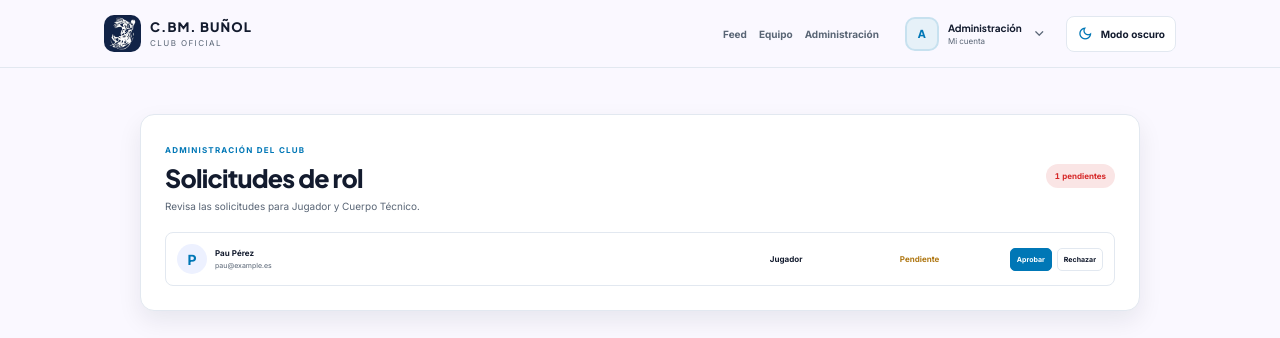
AdminRequestsPage › presenta errores al resolver una solicitud
Click the button "Rechazar": (1080, 259) [1057,248,1103,270]
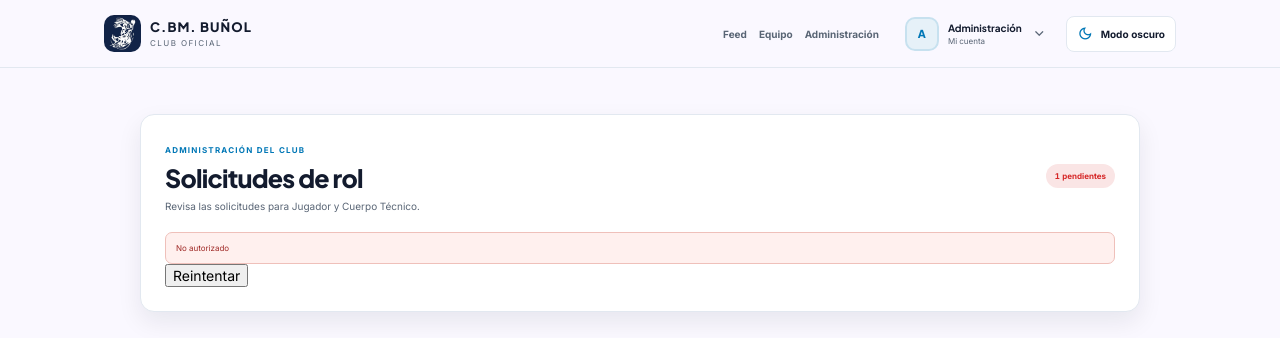
Now the message reads "No autorizado", box [176,243,229,253]
